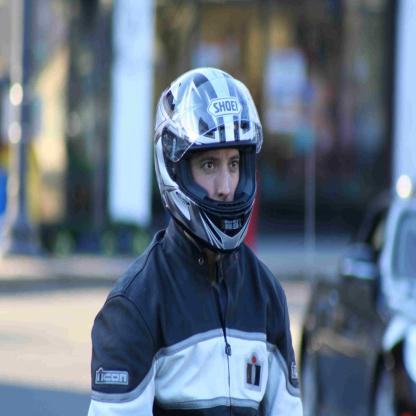Helmet: (151, 70, 265, 264)
